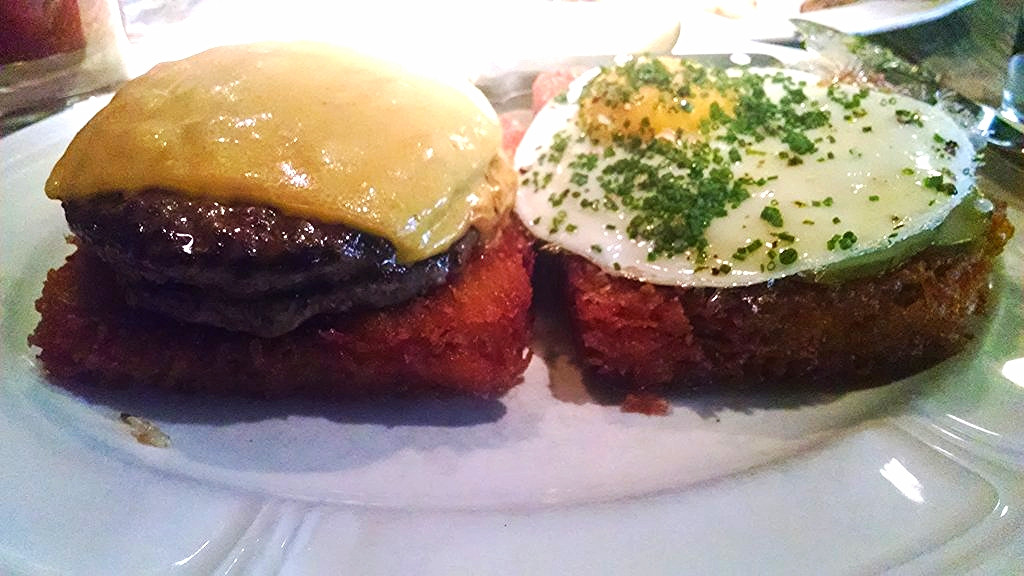fried egg: (536, 66, 942, 256)
